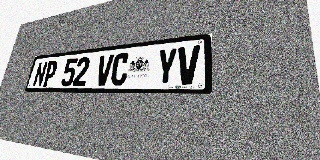2: (72, 57, 91, 86)
5: (60, 58, 78, 86)
C: (109, 52, 130, 86)
N: (32, 61, 48, 87)
P: (42, 60, 58, 87)
V: (176, 45, 200, 85), (95, 54, 114, 86)
Y: (155, 47, 178, 85)
